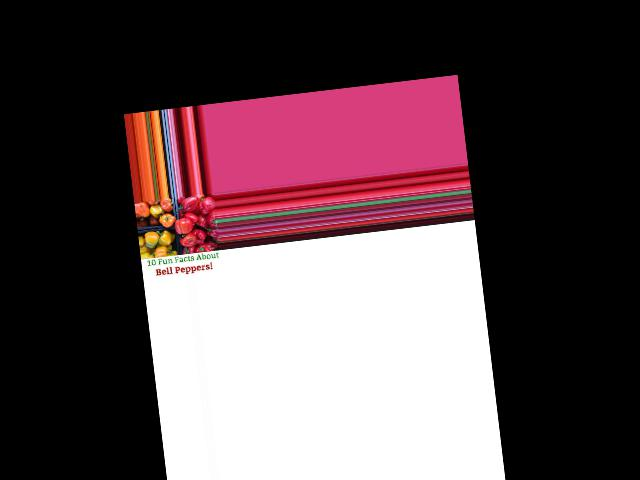bell_pepper: (190, 239, 213, 255)
